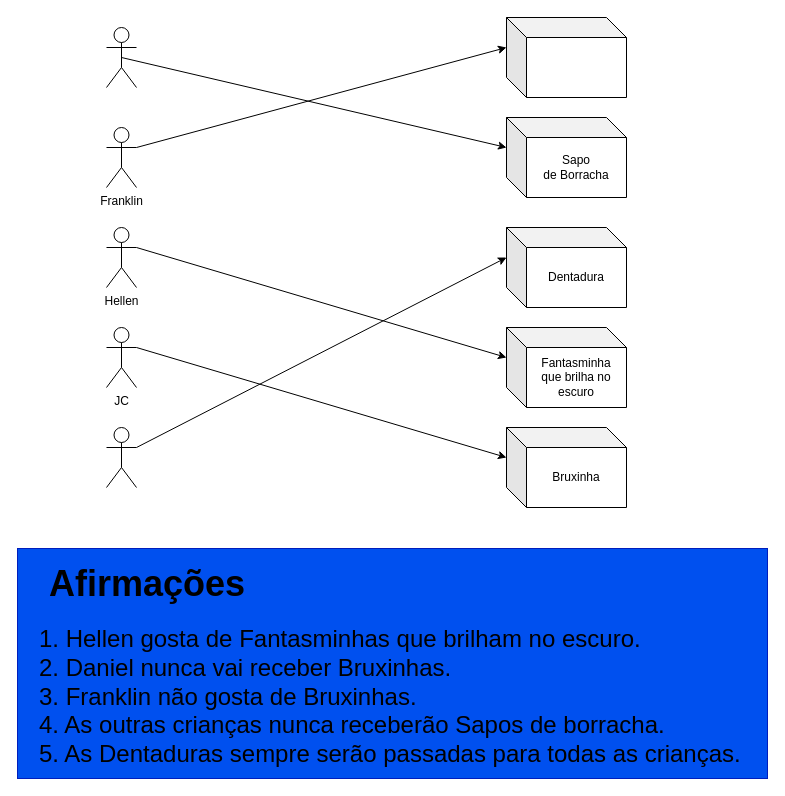
Some shapes in this 785 by 796 pixel diagram are drawn without their labels. Each missing label, with the centre of its shape:
"Aranha de Plástico" goes at (566,57).
"Daniel" goes at (121,457).
"Samuel" goes at (121,57).
